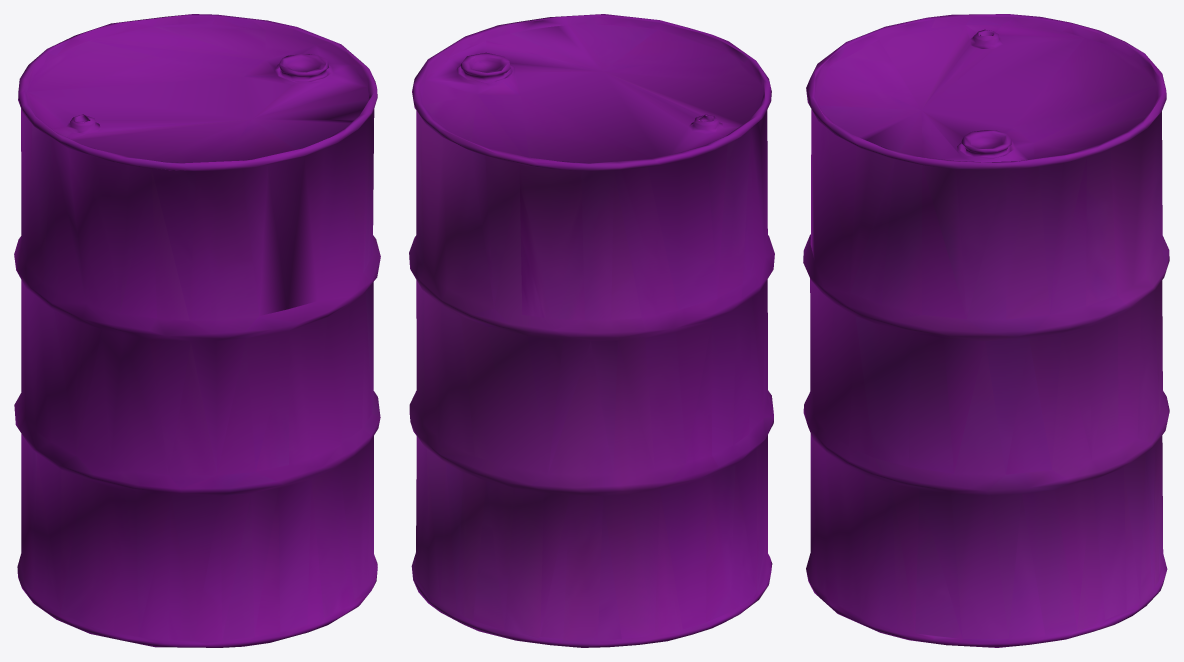
Rendered from oil-drum.glb.
3 views of the same model, side by side, from view 1: azimuth 30°, elevation 25°; view 2: azimuth 150°, elevation 25°; view 3: azimuth 270°, elevation 25° (orthographic).
Parts seen in each view (by area): view 1: Mesh_0; view 2: Mesh_0; view 3: Mesh_0.
Part boxes in pixels (bbox=[...]): Mesh_0: bbox=[14, 14, 380, 647]; Mesh_0: bbox=[409, 14, 774, 647]; Mesh_0: bbox=[803, 14, 1169, 647].
Size of the model in its own units: 0.6866 by 1 by 0.6852.
Materials: 1 (1 with a texture image).
